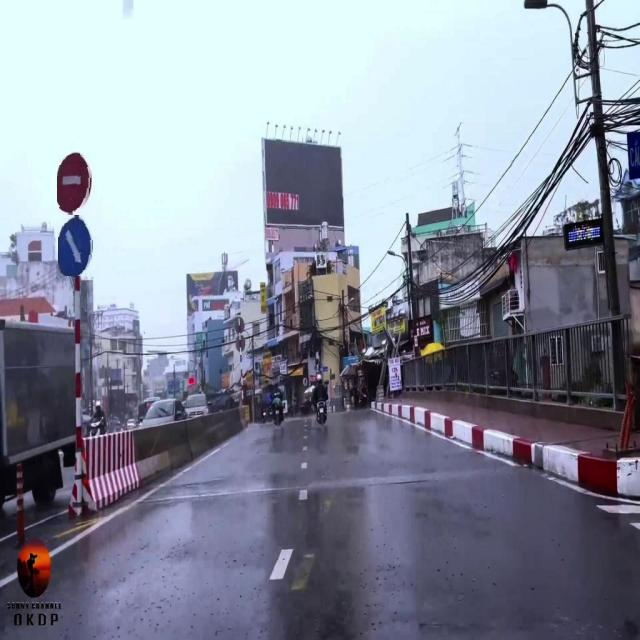cam_xe_di_nguoc_chieu: (57, 149, 93, 215)
huong_phai_di_vuot_chuong_ngai_vat_phai: (58, 214, 94, 276)
